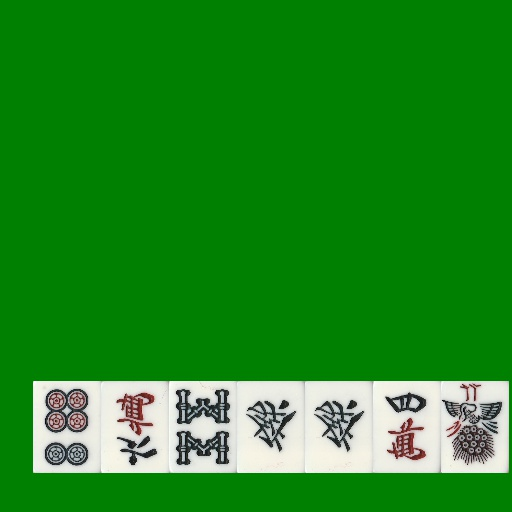1s: (441, 381, 509, 473)
4m: (373, 381, 441, 473)
6m: (101, 381, 169, 473)
6p: (33, 381, 101, 473)
8s: (169, 381, 237, 473)
hatsu: (237, 381, 305, 473), (305, 381, 373, 473)
